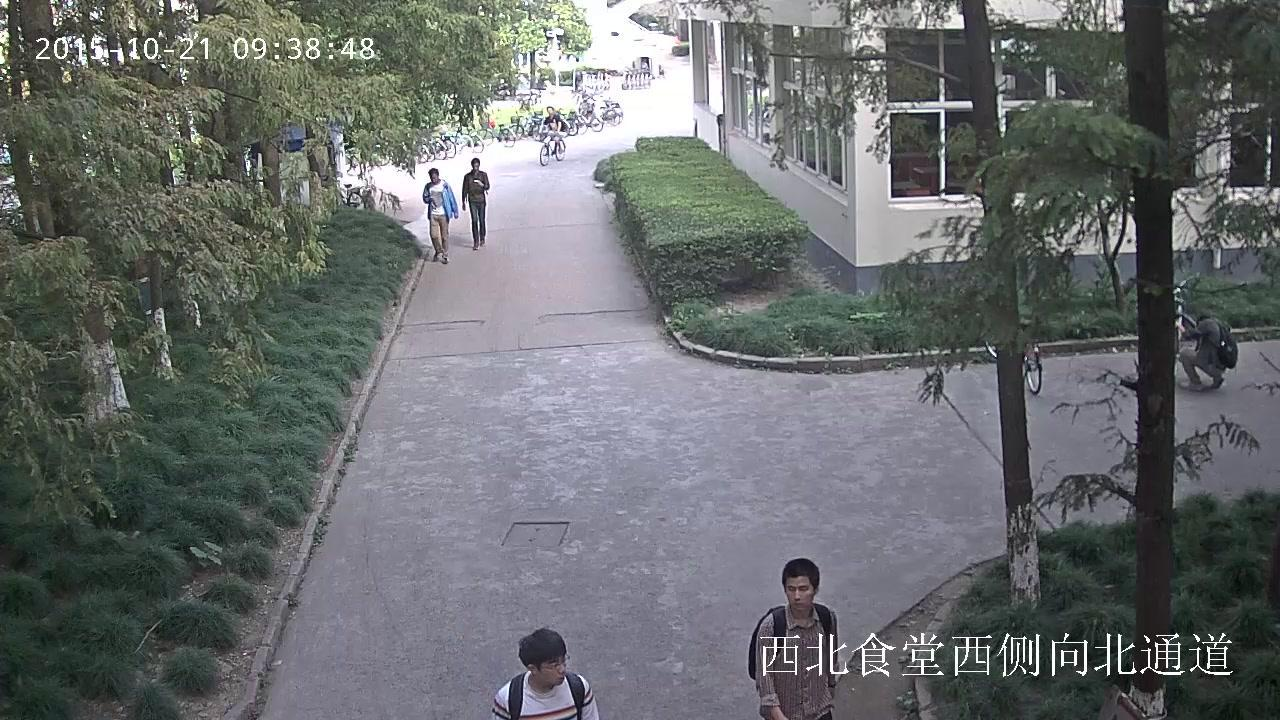face: (786, 576, 813, 610), (538, 655, 566, 685), (430, 174, 437, 182), (473, 163, 478, 170), (547, 108, 552, 114)
